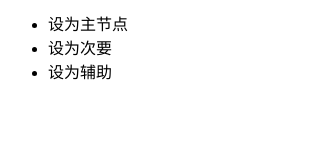
Test: GraphRoles（角色菜单） › 设主失败不谎报成功：出错误态，且没有 toast
Click the menu item with test id "graph-role-primary".
click(88, 24)  # box x1=48 y1=16 x2=128 y2=33
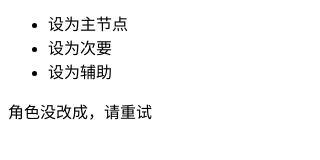
Now the text "角色没改成，请重试" is shown, box x1=8 y1=104 x2=152 y2=121
